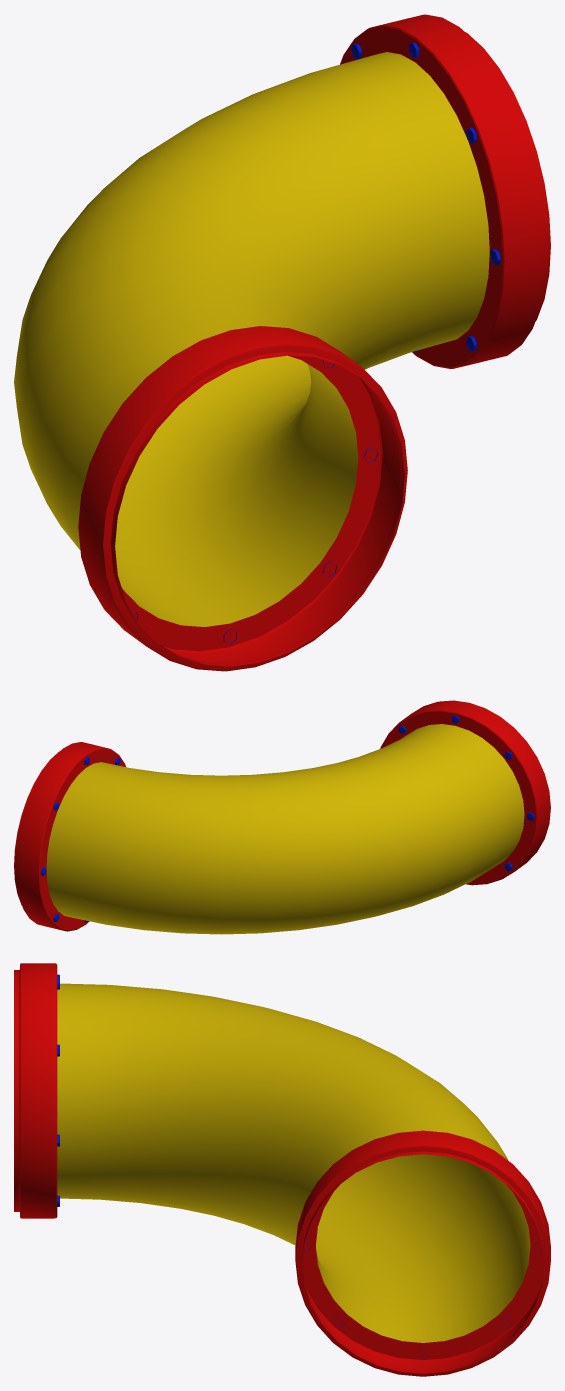
Rendered from sub_CurvePipe.fbx.
3 views of the same model, one above another, from view 1: azimuth 30°, elevation 25°; view 2: azimuth 150°, elevation 25°; view 3: azimuth 270°, elevation 25° (orthographic). The views are drawn at different scales.
Parts seen in each view (by area): view 1: sub_CurvePipe; view 2: sub_CurvePipe; view 3: sub_CurvePipe.
Part boxes in pixels (box(x1,y1,x2,y2)): sub_CurvePipe: box(14, 14, 550, 671); sub_CurvePipe: box(14, 700, 550, 934); sub_CurvePipe: box(14, 963, 550, 1376).
Bounding box in the file's own units: 106 × 50.56 × 106.
